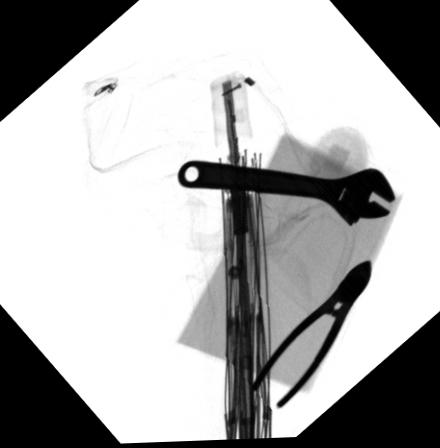Pliers: (248, 263, 370, 413)
Wrench: (175, 162, 395, 233)
